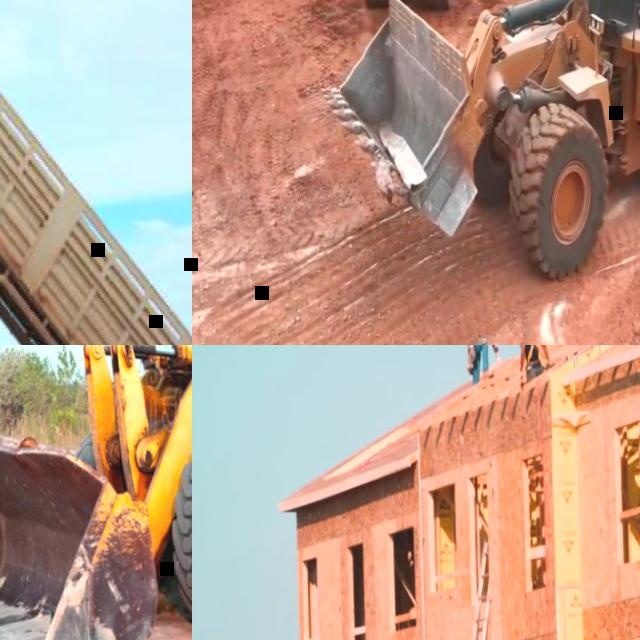NO-Safety Vest: (523, 345, 538, 362)
Person: (466, 345, 502, 382), (518, 345, 548, 382)
machinery: (333, 0, 640, 283), (0, 1, 192, 345), (0, 345, 192, 640)
